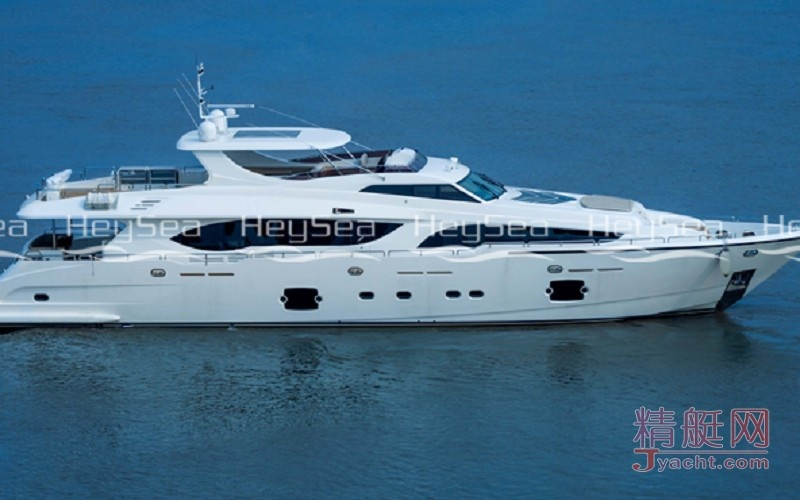yacht: (1, 68, 800, 333)
